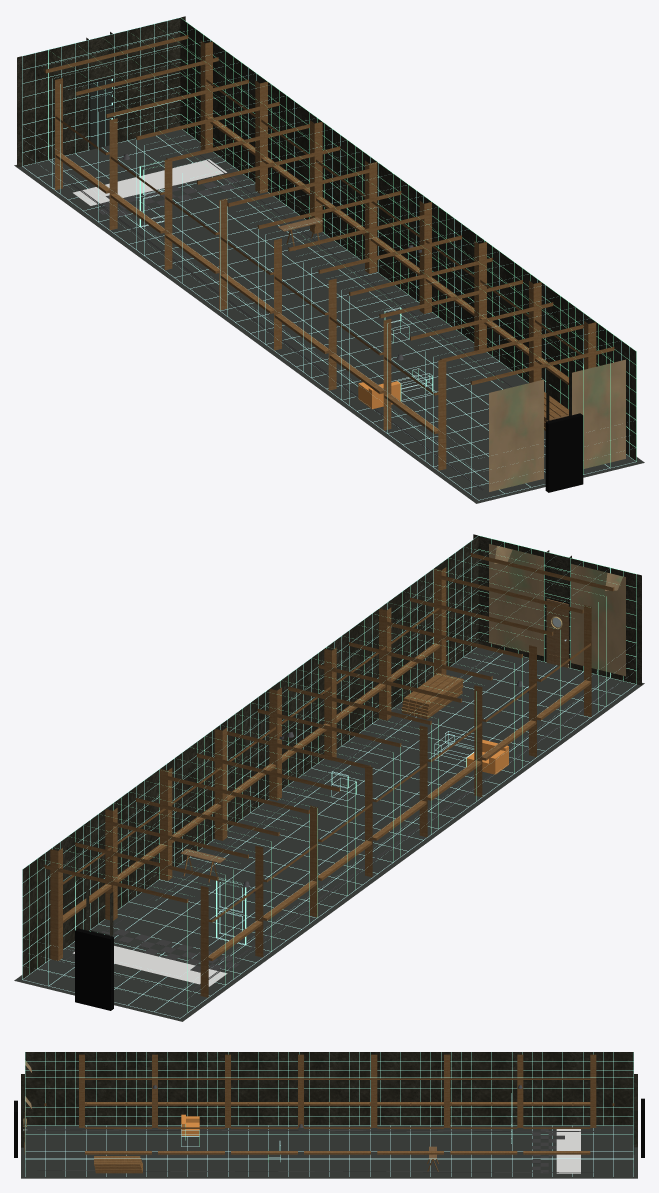
The model's file is rdwe_green_grid.glb.
3 renders of one model, top to bottom at view 1: azimuth 30°, elevation 25°; view 2: azimuth 150°, elevation 25°; view 3: azimuth 270°, elevation 25°, orthographic. The views are drawn at different scales.
Visible parts, largest first — view 1: Grid_Floor, Grid_Wall, Stud_Pine, Grid_Emit, Paper_Back, Void_Black, Checker_White, DoorLeaf_seam, Rubber, Checker_Black; view 2: Grid_Floor, Grid_Wall, Stud_Pine, Grid_Emit, Paper_Back, Void_Black, Checker_White, Rubber, DoorLeaf_teal2, Checker_Black, Leather_Orange; view 3: Grid_Wall, Grid_Floor, Stud_Pine, Grid_Emit, Rubber, Checker_White, Checker_Black, Void_Black, Leather_Orange.
Part boxes in pixels (x1,y1,x2,y2): Grid_Floor: (14, 129, 644, 503); Grid_Wall: (17, 16, 636, 460); Stud_Pine: (44, 35, 614, 470); Grid_Emit: (22, 17, 636, 500); Paper_Back: (488, 359, 625, 491); Void_Black: (89, 78, 583, 492); Checker_White: (73, 159, 226, 205); DoorLeaf_seam: (89, 78, 112, 149); Rubber: (71, 154, 512, 490); Checker_Black: (97, 177, 239, 216); Grid_Floor: (14, 647, 644, 1021); Grid_Wall: (22, 534, 641, 978); Stud_Pine: (44, 553, 614, 997); Grid_Emit: (22, 535, 636, 1018); Paper_Back: (489, 544, 625, 676); Void_Black: (75, 598, 568, 1010); Checker_White: (72, 946, 227, 986); Rubber: (65, 656, 614, 991); DoorLeaf_teal2: (546, 599, 568, 667); Checker_Black: (101, 929, 239, 972); Leather_Orange: (466, 739, 508, 774); Grid_Wall: (21, 1052, 637, 1147); Grid_Floor: (21, 1125, 637, 1178); Stud_Pine: (44, 1054, 614, 1173); Grid_Emit: (25, 1052, 633, 1176); Rubber: (37, 1129, 593, 1172); Checker_White: (556, 1129, 580, 1173); Checker_Black: (532, 1129, 564, 1173); Void_Black: (14, 1098, 644, 1157); Leather_Orange: (181, 1114, 199, 1135).
Bounding box in the file's own units: 6.4 × 4.06 × 31.1.
Materials: 17 (5 with a texture image).
